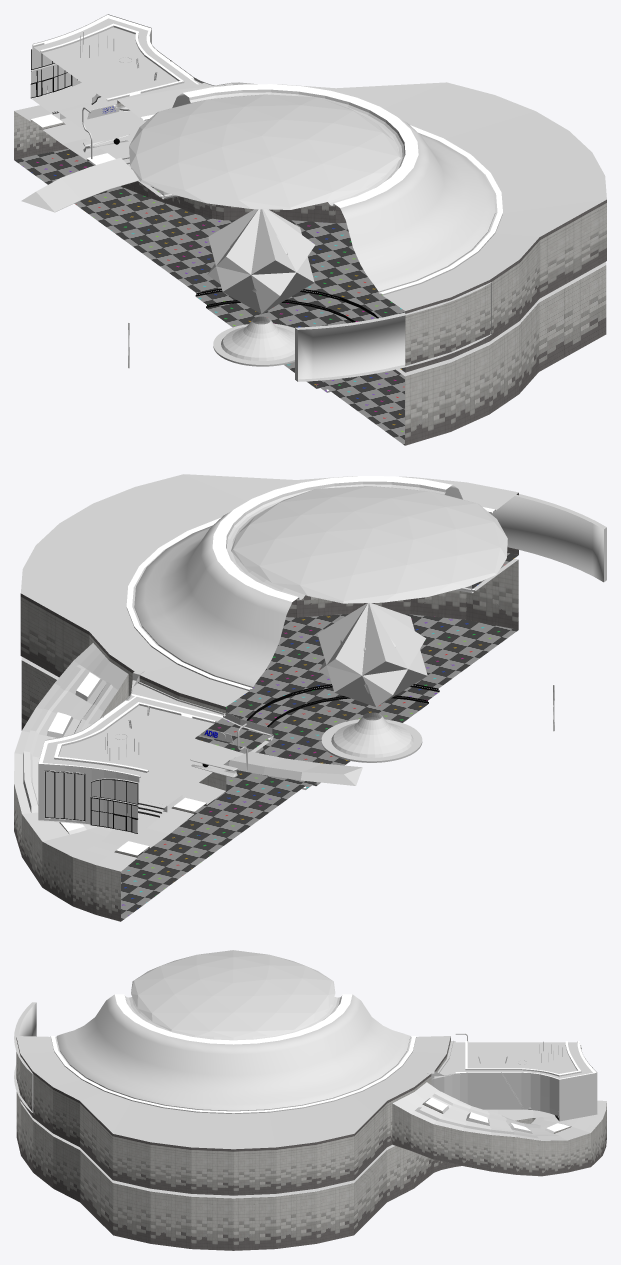
Rendered from BankHall - V2.gltf.
3 views of the same model, one above another, from view 1: azimuth 30°, elevation 25°; view 2: azimuth 150°, elevation 25°; view 3: azimuth 270°, elevation 25° (orthographic). The views are drawn at different scales.
Parts seen in each view (by area): view 1: MainHall.001, Dome, Cube, EntrencCeiling, Icosphere.001, Plane, Cube.002, EnteranceHall, Cube.001, Cube.003, Cone, Cylinder (+1 smaller); view 2: MainHall.001, Dome, Cube, EntrencCeiling, Icosphere.001, Plane, EnteranceHall, Cube.002, Cube.001, Cone, Cube.003, WindowTall (+3 smaller); view 3: MainHall.001, Dome, Cube, EnteranceHall, EntrencCeiling, Icosphere.001, Plane.
Boxes of the visible parts, left/top/right/bottom form: MainHall.001: left=115, top=82, right=606, bottom=445; Dome: left=129, top=94, right=400, bottom=209; Cube: left=14, top=82, right=257, bottom=235; EntrencCeiling: left=32, top=14, right=215, bottom=106; Icosphere.001: left=130, top=94, right=399, bottom=209; Plane: left=295, top=282, right=491, bottom=381; Cube.002: left=208, top=209, right=314, bottom=313; EnteranceHall: left=31, top=14, right=233, bottom=169; Cube.001: left=207, top=209, right=314, bottom=313; Cube.003: left=21, top=157, right=139, bottom=212; Cone: left=221, top=316, right=294, bottom=361; Cylinder: left=213, top=323, right=294, bottom=366; MainHall.001: left=20, top=474, right=518, bottom=843; Dome: left=231, top=486, right=507, bottom=603; Cube: left=14, top=643, right=225, bottom=921; EntrencCeiling: left=38, top=680, right=225, bottom=777; Icosphere.001: left=231, top=486, right=507, bottom=603; Plane: left=490, top=494, right=606, bottom=582; EnteranceHall: left=38, top=669, right=244, bottom=833; Cube.002: left=317, top=603, right=427, bottom=706; Cube.001: left=319, top=603, right=425, bottom=707; Cone: left=331, top=712, right=413, bottom=757; Cube.003: left=228, top=751, right=362, bottom=785; WindowTall: left=45, top=770, right=85, bottom=820; MainHall.001: left=16, top=994, right=453, bottom=1250; Dome: left=131, top=950, right=335, bottom=1037; Cube: left=392, top=1082, right=606, bottom=1176; EnteranceHall: left=427, top=1045, right=598, bottom=1121; EntrencCeiling: left=433, top=1041, right=596, bottom=1079; Icosphere.001: left=131, top=950, right=334, bottom=1036; Plane: left=14, top=1002, right=36, bottom=1112.
Bounding box in the file's own units: 79.63 × 34.93 × 117.
29 materials, 3 textured.
